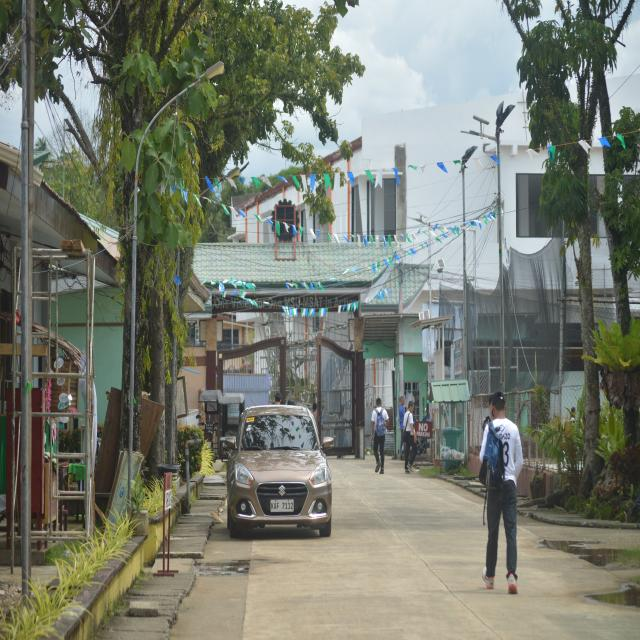person: (480, 392, 523, 594), (372, 398, 388, 474), (404, 401, 416, 473), (275, 392, 281, 405)
